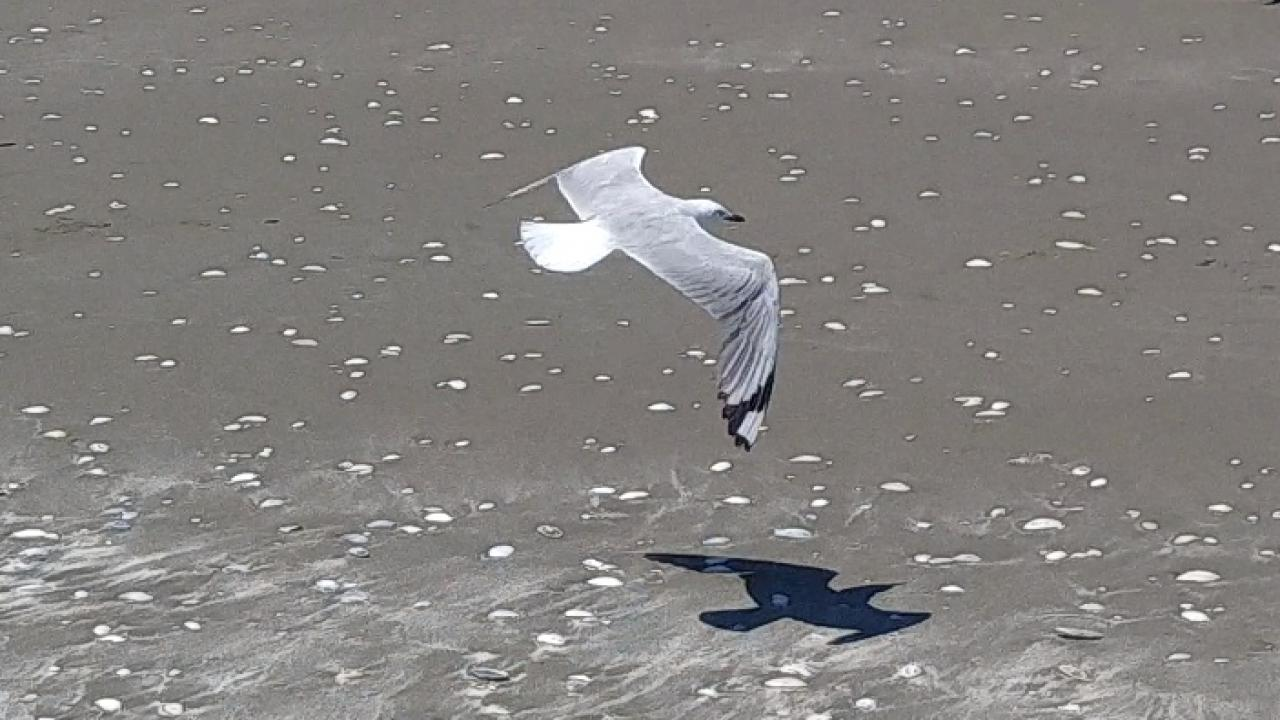Bird: (486, 138, 791, 464)
